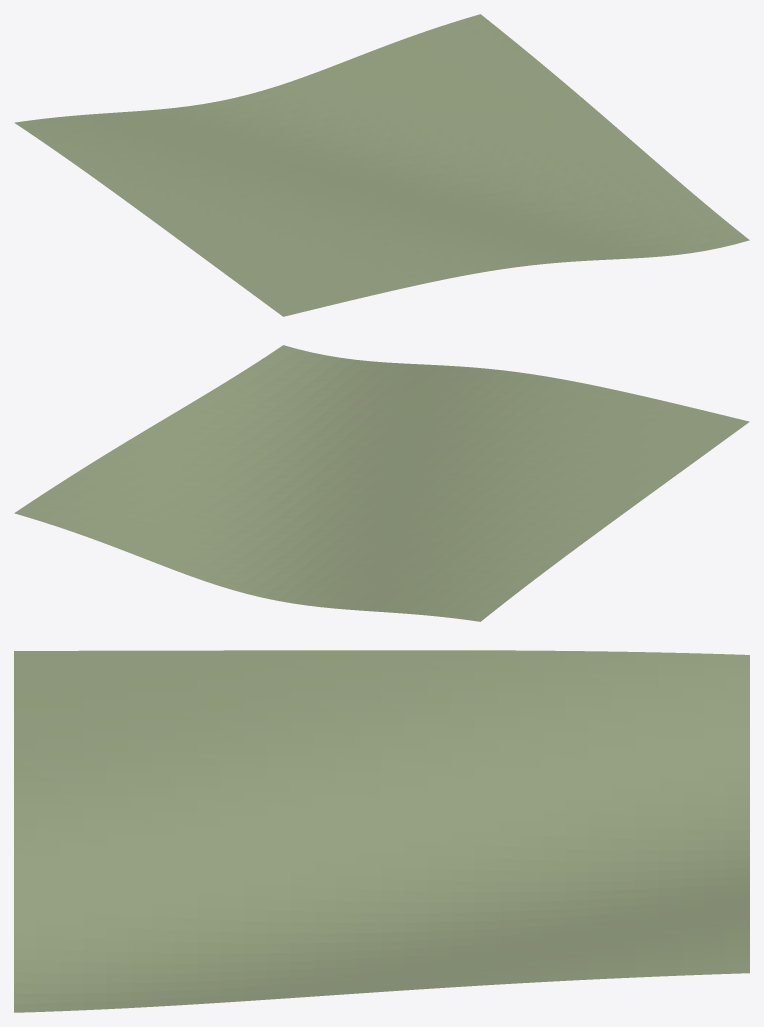
The model's file is desert-13-24.glb.
The picture shows the model from 3 angles, top to bottom: view 1: azimuth 30°, elevation 25°; view 2: azimuth 150°, elevation 25°; view 3: azimuth 270°, elevation 25°; orthographic projection. The views are drawn at different scales.
Visible parts, largest first — view 1: desert-13-24; view 2: desert-13-24; view 3: desert-13-24.
Part boxes in pixels (bbox=[...]): desert-13-24: bbox=[14, 14, 749, 316]; desert-13-24: bbox=[14, 345, 749, 621]; desert-13-24: bbox=[14, 650, 749, 1012].
Size of the model in its own units: 512 by 40.12 by 512.
